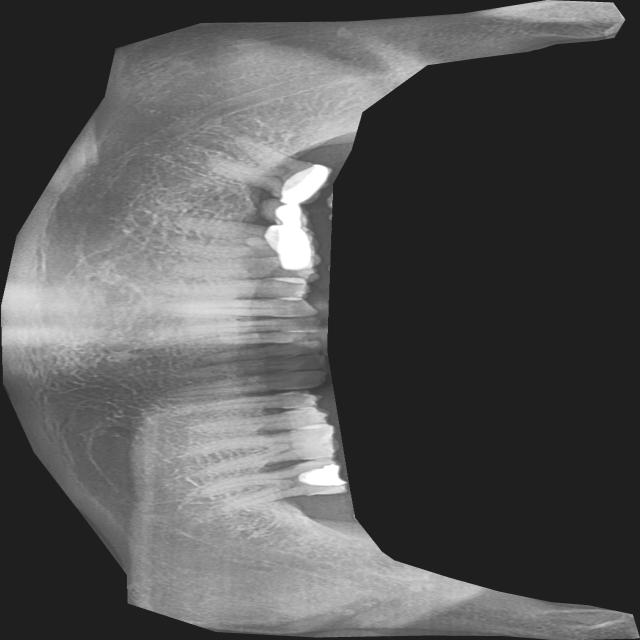mandibula: (0, 0, 639, 640)
